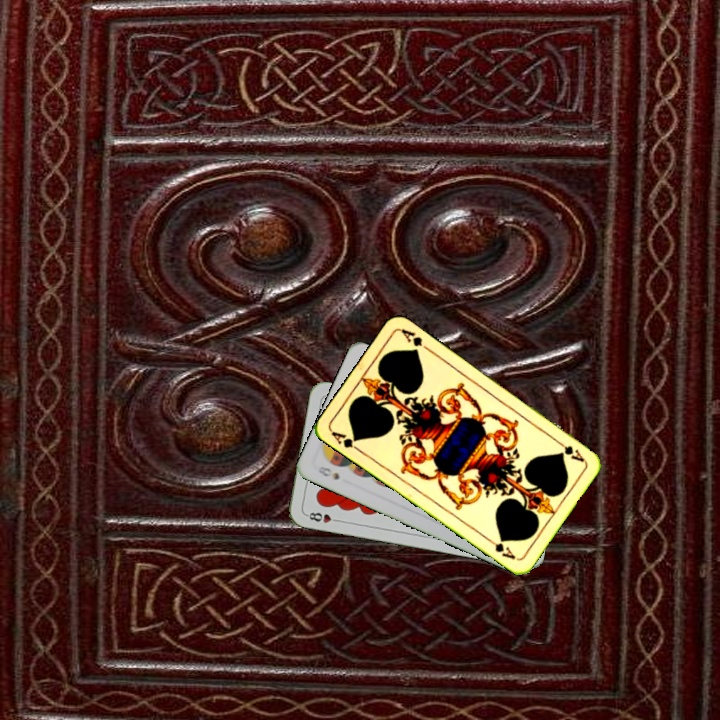GA: (551, 435, 587, 465), (327, 427, 364, 455)
H8: (302, 508, 343, 525)
S8: (313, 462, 342, 483)
